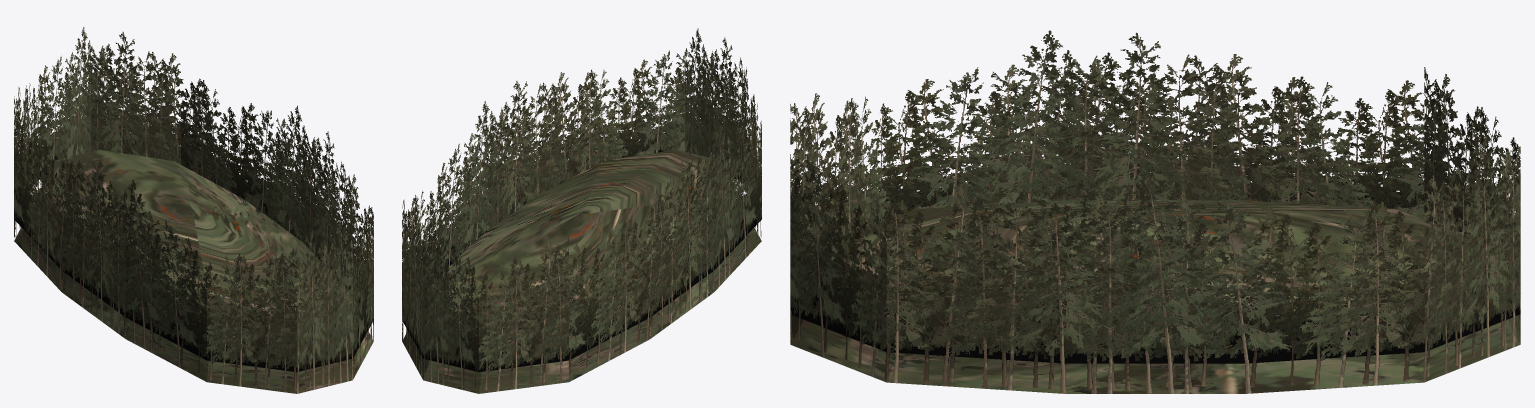
Rendered from PineTreeCylinder.fbx.
3 views of the same model, side by side, from view 1: azimuth 30°, elevation 25°; view 2: azimuth 150°, elevation 25°; view 3: azimuth 270°, elevation 25° (orthographic). The views are drawn at different scales.
Visible parts, largest first — view 1: Cube; view 2: Cube; view 3: Cube.
Part boxes in pixels (x1,y1,x2,y2): Cube: (14, 27, 373, 393); Cube: (402, 28, 761, 393); Cube: (790, 30, 1520, 393).
Size of the model in its own units: 240 by 200 by 544.
